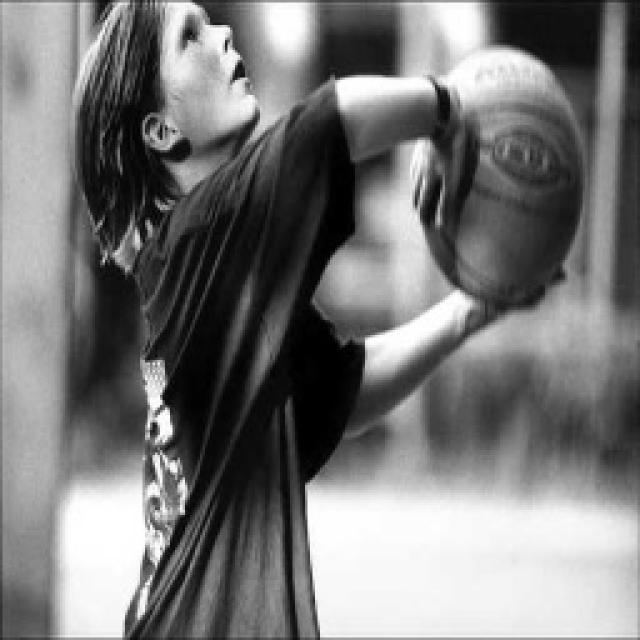rim: (413, 38, 588, 312)
